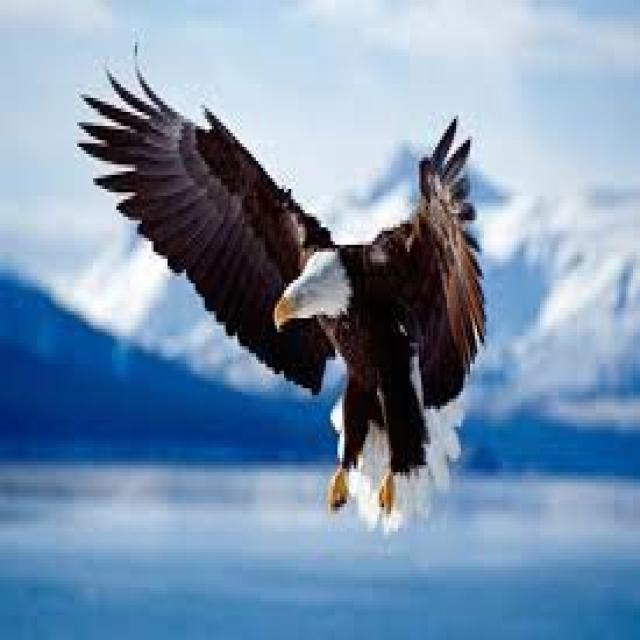Eagle: (83, 69, 486, 516)
